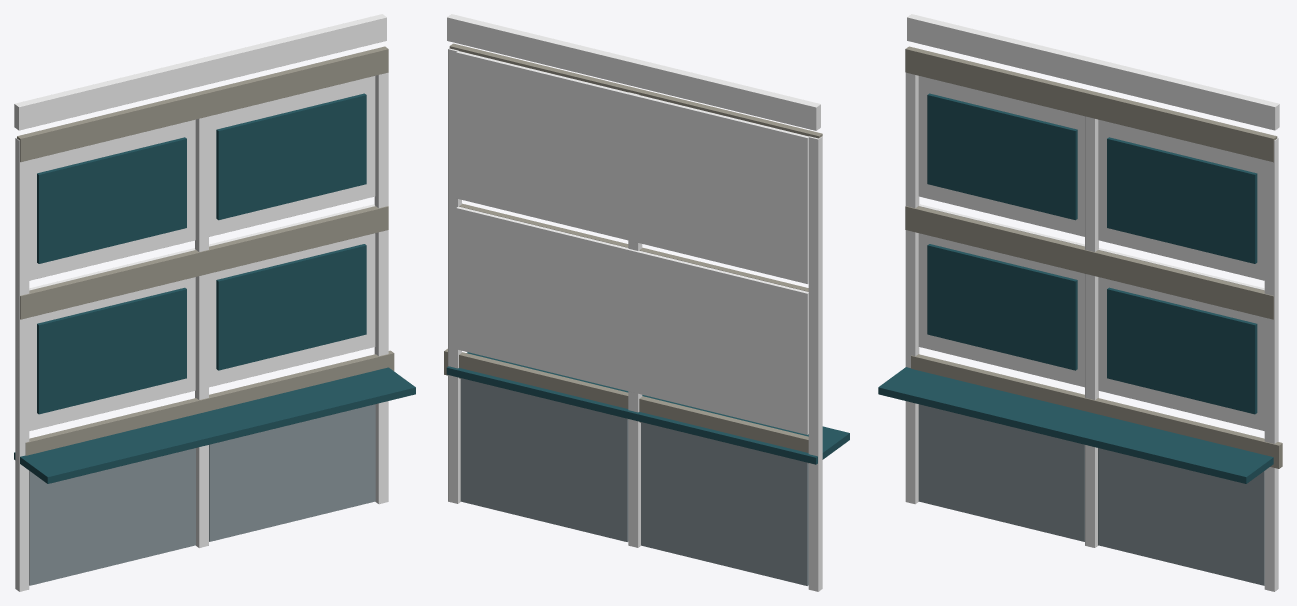
File: source-edit.glb
3 views of the same model, side by side, from view 1: azimuth 30°, elevation 25°; view 2: azimuth 150°, elevation 25°; view 3: azimuth 330°, elevation 25° (orthographic).
Visible parts, largest first — view 1: Ground_Shutter, Ground_Shutter.001, Ribbon_Window.002, Ribbon_Window.003, Ribbon_Window, Ribbon_Window.001, Upper_Front_Wall.001, Modern_Awning, Upper_Front_Wall, Flat_Parapet, Facade_Band.002, Facade_Band.001 (+4 smaller); view 2: Upper_Front_Wall.001, Upper_Front_Wall, Ground_Shutter.001, Ground_Shutter, Flat_Parapet, Facade_Pier, Facade_Band, Modern_Awning, Facade_Pier.002, Facade_Band.002, Facade_Pier.001, Facade_Band.001; view 3: Ground_Shutter.001, Ground_Shutter, Ribbon_Window, Ribbon_Window.003, Ribbon_Window.001, Ribbon_Window.002, Upper_Front_Wall.001, Modern_Awning, Upper_Front_Wall, Flat_Parapet, Facade_Band.002, Facade_Band.001 (+4 smaller).
Boxes of the visible parts, bbox=[...] form: Ground_Shutter: bbox=[29, 448, 195, 585]; Ground_Shutter.001: bbox=[209, 404, 375, 541]; Ribbon_Window.002: bbox=[216, 244, 366, 370]; Ribbon_Window.003: bbox=[216, 93, 366, 220]; Ribbon_Window: bbox=[37, 287, 186, 414]; Ribbon_Window.001: bbox=[37, 137, 186, 263]; Upper_Front_Wall.001: bbox=[29, 76, 375, 280]; Modern_Awning: bbox=[14, 367, 415, 483]; Upper_Front_Wall: bbox=[29, 204, 375, 430]; Flat_Parapet: bbox=[14, 14, 386, 130]; Facade_Band.002: bbox=[17, 46, 388, 162]; Facade_Band.001: bbox=[20, 206, 388, 319]; Upper_Front_Wall.001: bbox=[456, 51, 808, 283]; Upper_Front_Wall: bbox=[456, 206, 808, 434]; Ground_Shutter.001: bbox=[460, 378, 628, 541]; Ground_Shutter: bbox=[641, 422, 808, 585]; Flat_Parapet: bbox=[447, 14, 820, 130]; Facade_Pier: bbox=[808, 136, 822, 591]; Facade_Band: bbox=[444, 348, 808, 463]; Modern_Awning: bbox=[446, 352, 849, 464]; Facade_Pier.002: bbox=[448, 48, 461, 503]; Facade_Band.002: bbox=[449, 43, 822, 138]; Facade_Pier.001: bbox=[628, 92, 642, 547]; Facade_Band.001: bbox=[459, 203, 808, 291]; Ground_Shutter.001: bbox=[1098, 448, 1264, 585]; Ground_Shutter: bbox=[918, 404, 1084, 541]; Ribbon_Window: bbox=[927, 244, 1077, 370]; Ribbon_Window.003: bbox=[1107, 137, 1257, 263]; Ribbon_Window.001: bbox=[927, 93, 1077, 220]; Ribbon_Window.002: bbox=[1107, 287, 1257, 414]; Upper_Front_Wall.001: bbox=[918, 76, 1264, 280]; Modern_Awning: bbox=[878, 367, 1273, 483]; Upper_Front_Wall: bbox=[918, 204, 1264, 430]; Flat_Parapet: bbox=[907, 14, 1279, 130]; Facade_Band.002: bbox=[905, 46, 1277, 162]; Facade_Band.001: bbox=[905, 206, 1273, 319].
Bounding box in the file's own units: 8.33 × 10.3 × 1.3.
